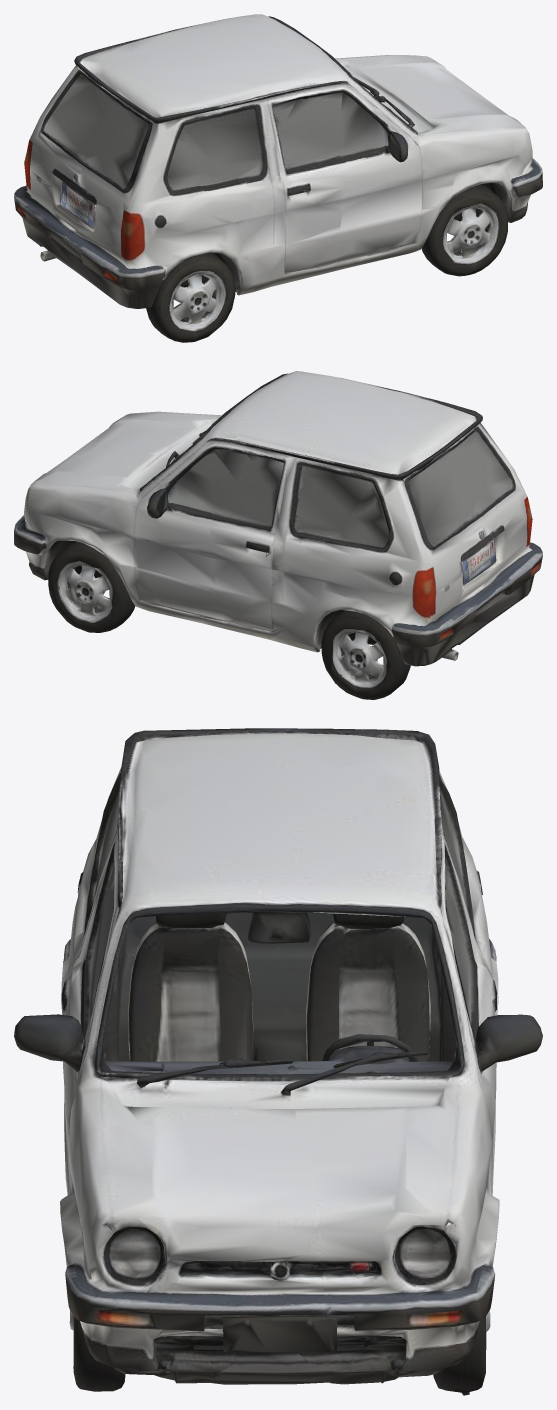
File: kei.glb
3 renders of one model, top to bottom at view 1: azimuth 30°, elevation 25°; view 2: azimuth 150°, elevation 25°; view 3: azimuth 270°, elevation 25°, orthographic. The views are drawn at different scales.
Visible parts, largest first — view 1: tripo_node_4cd53866-64b0-4cf1-978c-a378b59b417c; view 2: tripo_node_4cd53866-64b0-4cf1-978c-a378b59b417c; view 3: tripo_node_4cd53866-64b0-4cf1-978c-a378b59b417c.
Part boxes in pixels (x1,y1,x2,y2): tripo_node_4cd53866-64b0-4cf1-978c-a378b59b417c: (14,14,542,342); tripo_node_4cd53866-64b0-4cf1-978c-a378b59b417c: (14,371,542,699); tripo_node_4cd53866-64b0-4cf1-978c-a378b59b417c: (14,728,542,1395).
Bounding box in the file's own units: 0.9994 × 0.5001 × 0.5889.
Materials: 1 (1 with a texture image).
